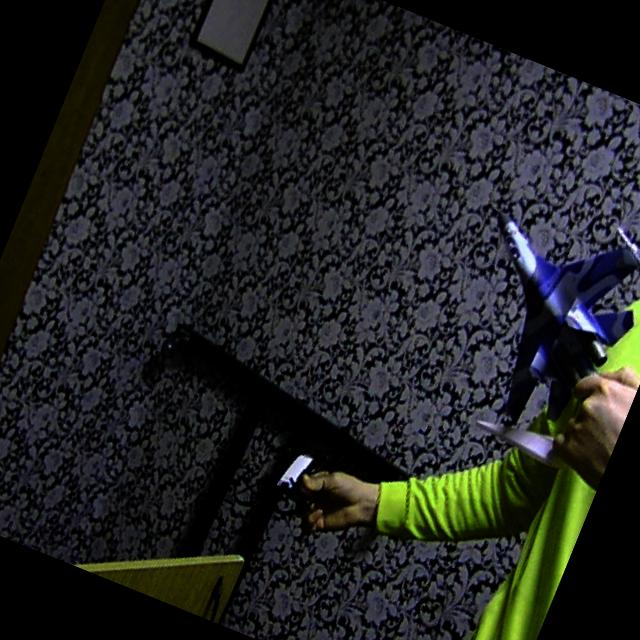drone: (216, 362, 378, 544)
